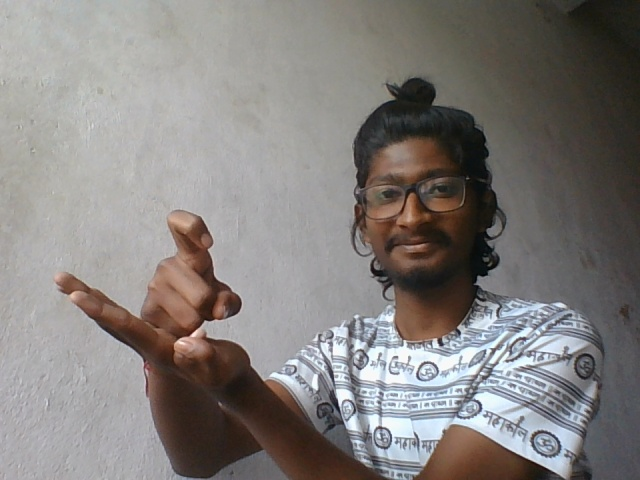No: (46, 204, 265, 393)
